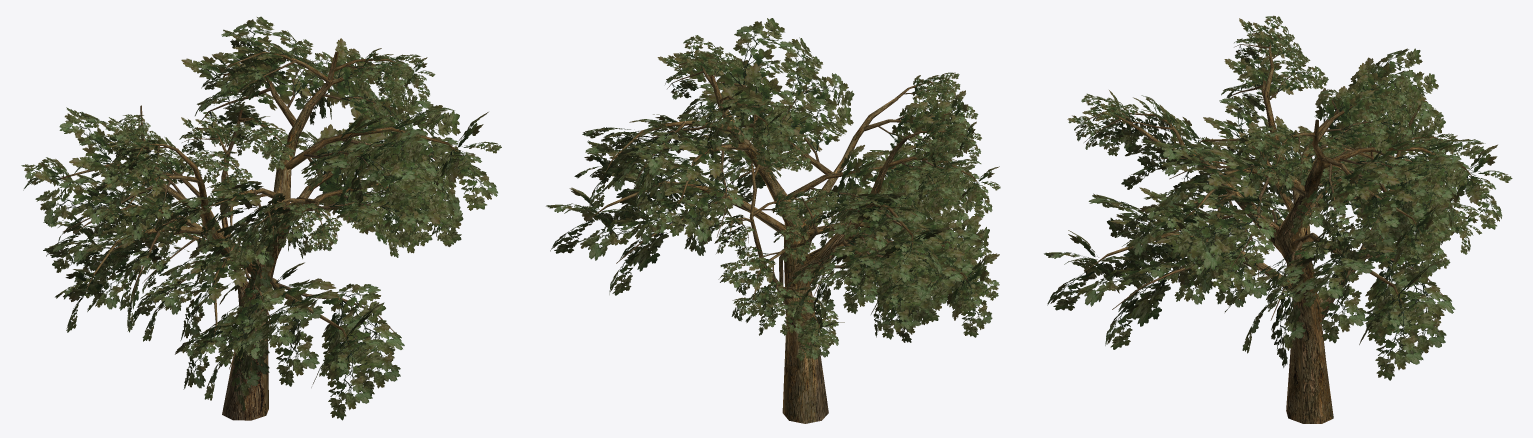
File: tree1.obj
3 views of the same model, side by side, from view 1: azimuth 30°, elevation 25°; view 2: azimuth 150°, elevation 25°; view 3: azimuth 270°, elevation 25° (orthographic). The views are drawn at different scales.
Parts seen in each view (by area): view 1: tree_oak_joined; view 2: tree_oak_joined; view 3: tree_oak_joined.
Boxes of the visible parts, x1=… form: tree_oak_joined: x1=21, y1=16, x2=501, y2=420; tree_oak_joined: x1=546, y1=18, x2=1000, y2=423; tree_oak_joined: x1=1044, y1=15, x2=1512, y2=423.
Size of the model in its own units: 5.7 by 4.35 by 5.36.
